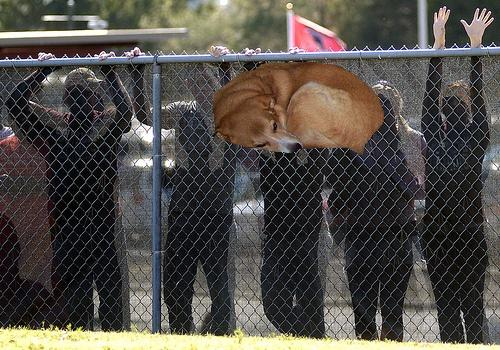tampered: (213, 63, 384, 155)
